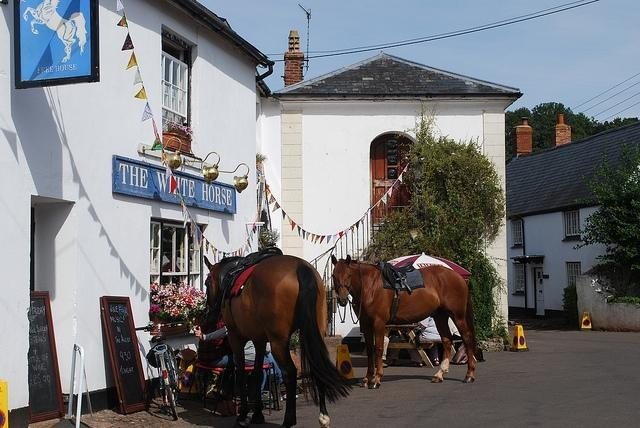bicycle: (134, 320, 184, 422)
